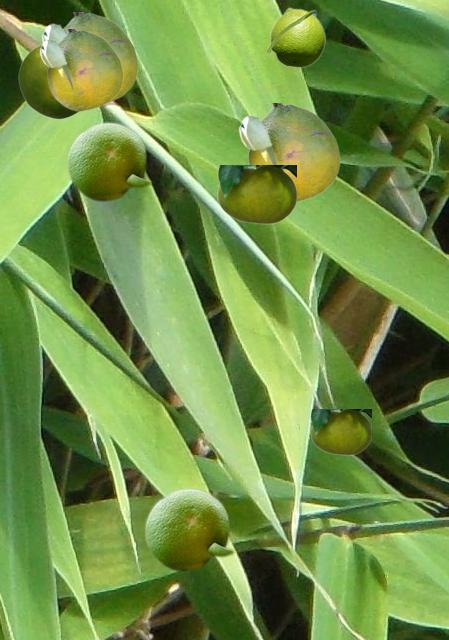dalandan: (238, 103, 339, 202), (41, 12, 137, 103), (143, 486, 235, 571), (65, 120, 152, 201), (39, 29, 122, 110), (18, 41, 80, 118), (217, 165, 295, 223), (265, 7, 325, 67), (310, 409, 370, 454)
